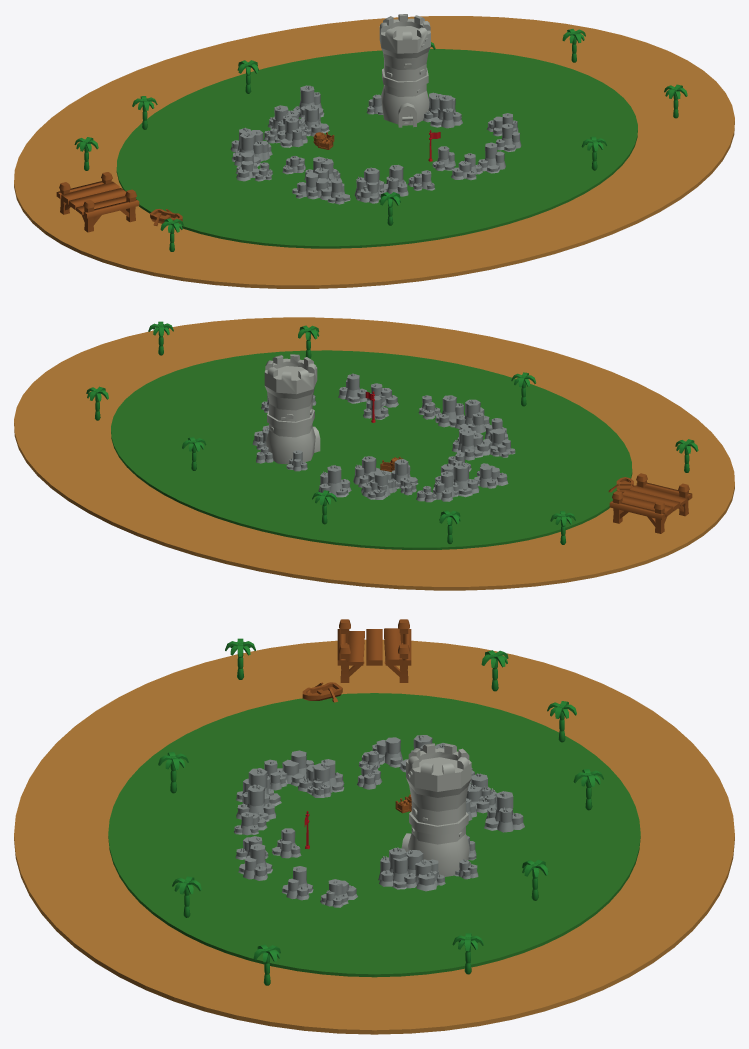
File: island.glb
3 renders of one model, top to bottom at view 1: azimuth 30°, elevation 25°; view 2: azimuth 150°, elevation 25°; view 3: azimuth 270°, elevation 25°, orthographic. The views are drawn at different scales.
Parts seen in each view (by area): view 1: Start Island beach, Start Island grass land, tower-complete-small, structure-platform-dock, rocks-sand-b, rocks-sand-b.007, rocks-sand-b.002, rocks-sand-b.004, rocks-b.001, rocks-a, rocks-sand-a, rocks-sand-b.001 (+4 smaller); view 2: Start Island beach, Start Island grass land, tower-complete-small, structure-platform-dock, rocks-sand-b.009, rocks-sand-b.004, rocks-sand-b.001, rocks-sand-b.007, rocks-b.001, rocks-a.004, rocks-sand-b.005, rocks-sand-b.006 (+1 smaller); view 3: Start Island beach, Start Island grass land, tower-complete-small, structure-platform-dock, rocks-sand-b.009, rocks-sand-b.001, rocks-b.001, rocks-sand-a.003, rocks-a, rocks-sand-a.004, rocks-b.003, rocks-a.004.
Boxes of the visible parts, box(x1,y1,x2,y2) form: Start Island beach: box(14, 16, 734, 288); Start Island grass land: box(116, 49, 637, 248); tower-complete-small: box(379, 14, 430, 127); structure-platform-dock: box(56, 172, 139, 232); rocks-sand-b: box(430, 95, 462, 128); rocks-sand-b.007: box(232, 132, 263, 166); rocks-sand-b.002: box(277, 117, 307, 147); rocks-sand-b.004: box(354, 167, 386, 202); rocks-b.001: box(478, 142, 505, 173); rocks-a: box(306, 172, 331, 200); rocks-sand-a: box(451, 153, 482, 180); rocks-sand-b.001: box(383, 164, 408, 196); Start Island beach: box(14, 317, 734, 590); Start Island grass land: box(111, 350, 632, 549); tower-complete-small: box(264, 354, 320, 464); structure-platform-dock: box(609, 473, 692, 533); rocks-sand-b.009: box(318, 465, 351, 497); rocks-sand-b.004: box(455, 399, 490, 433); rocks-sand-b.001: box(435, 395, 463, 427); rocks-sand-b.007: box(453, 462, 479, 497); rocks-b.001: box(338, 373, 367, 403); rocks-a.004: box(474, 465, 508, 488); rocks-sand-b.005: box(432, 471, 458, 501); rocks-sand-b.006: box(353, 456, 379, 487); Start Island beach: box(14, 639, 734, 1034); Start Island grass land: box(108, 693, 640, 977); tower-complete-small: box(401, 743, 471, 876); structure-platform-dock: box(337, 619, 411, 682); rocks-sand-b.009: box(484, 791, 524, 832); rocks-sand-b.001: box(236, 784, 276, 821); rocks-b.001: box(238, 843, 272, 880); rocks-sand-a.003: box(406, 850, 438, 891); rocks-a: box(277, 750, 306, 786); rocks-sand-a.004: box(298, 763, 332, 797); rocks-b.003: box(282, 866, 313, 900); rocks-a.004: box(372, 737, 403, 767).
Bounding box in the file's own units: 69 × 9.76 × 53.82.
